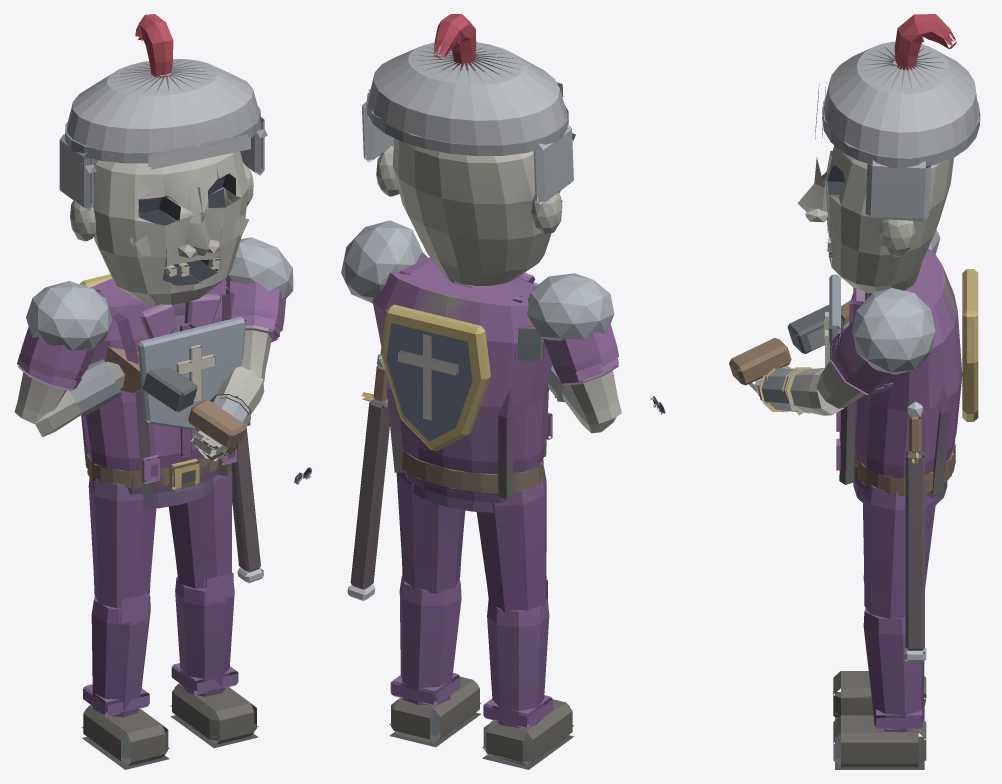
The model's file is GrandfatherKnight.glb.
The picture shows the model from 3 angles, left to right: view 1: azimuth 30°, elevation 25°; view 2: azimuth 150°, elevation 25°; view 3: azimuth 270°, elevation 25°; orthographic projection. The views are drawn at different scales.
Parts seen in each view (by area): view 1: Head, Body, LegR, LegL, ArmR, ArmL; view 2: Body, Head, LegR, LegL, ArmR, ArmL; view 3: Head, Body, LegL, ArmL, LegR.
Part boxes in pixels (bbox=[...]): Head: bbox=[59, 14, 267, 304]; Body: bbox=[80, 267, 311, 583]; LegR: bbox=[82, 477, 169, 769]; LegL: bbox=[168, 470, 258, 748]; ArmR: bbox=[14, 281, 142, 436]; ArmL: bbox=[190, 237, 293, 461]; Body: bbox=[347, 257, 552, 601]; Head: bbox=[362, 14, 575, 285]; LegR: bbox=[476, 466, 573, 769]; LegL: bbox=[389, 472, 480, 747]; ArmR: bbox=[527, 273, 621, 433]; ArmL: bbox=[341, 220, 427, 303]; Head: bbox=[797, 14, 980, 293]; Body: bbox=[650, 248, 978, 661]; LegL: bbox=[833, 485, 936, 769]; ArmL: bbox=[748, 288, 935, 415]; LegR: bbox=[833, 572, 926, 720].
Bounding box in the file's own units: 2.76 × 6.96 × 2.94.
